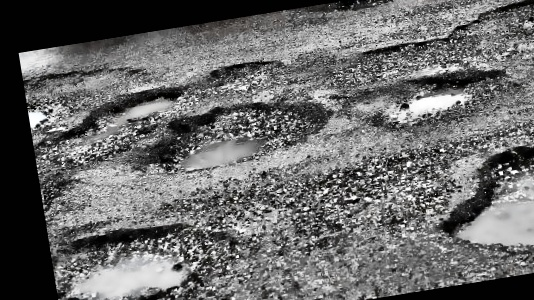pothole: (48, 205, 257, 300), (137, 88, 336, 184), (27, 82, 188, 183), (350, 0, 534, 88), (339, 60, 521, 140), (425, 130, 534, 262), (22, 57, 148, 104), (198, 54, 284, 91)
